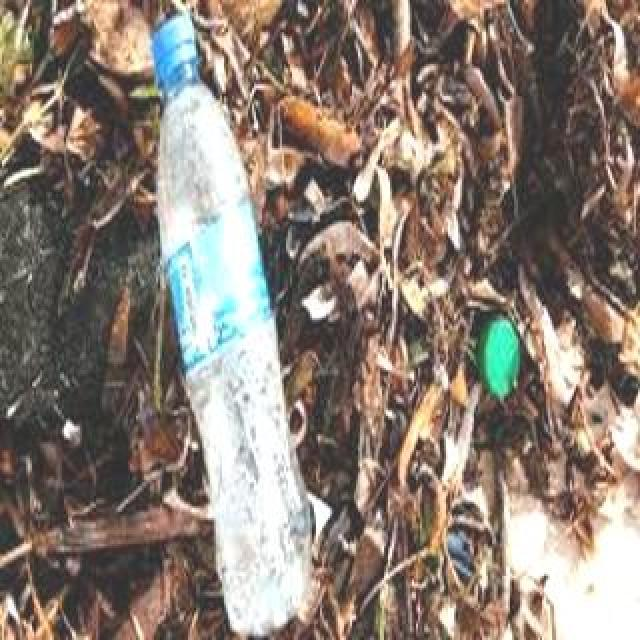Pet_Bottle: (144, 18, 314, 638)
